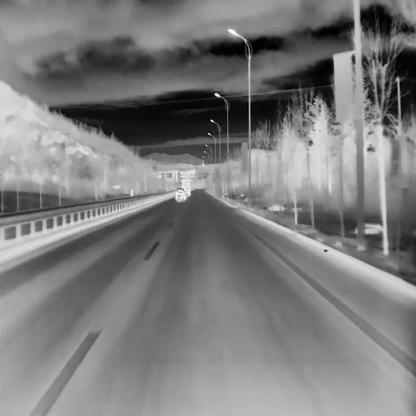car: (174, 188, 187, 201), (181, 179, 190, 195)
